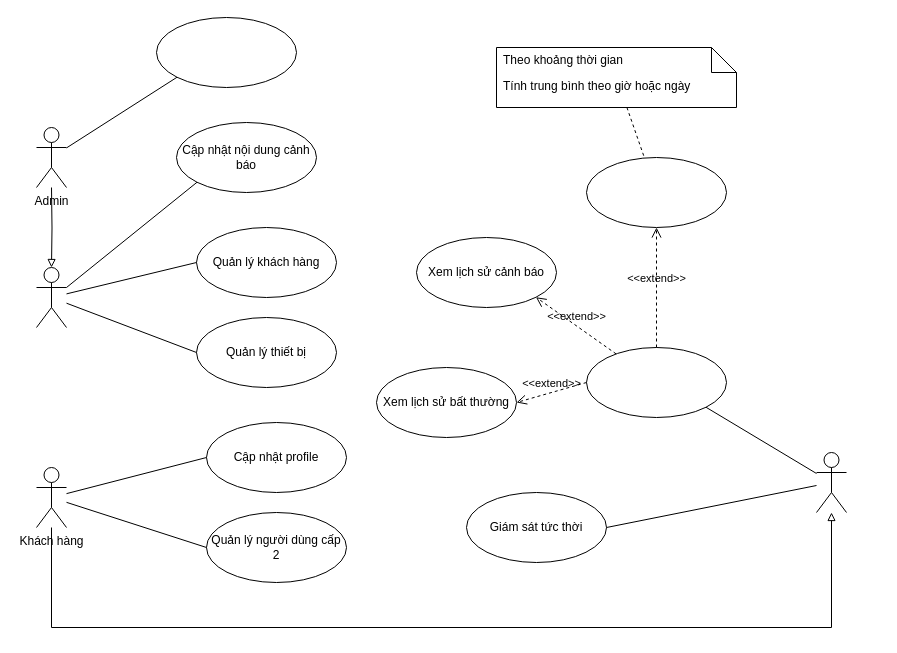
Some shapes in this 897 by 653 pixel diagram are drawn without their labels. The shapes that lost their labels are listed below. From the top down, each one's centre as x and y in pixels, then its label:
At point (226, 52): "Quản lý nhân viên kỹ thuật".
At point (656, 192): "Xem lịch sử công suất".
At point (51, 297): "Kỹ thuật viên".
At point (656, 382): "Xem lịch sử".
At point (831, 482): "Người dùng cấp 2".
